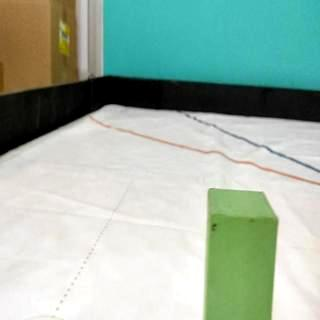greenbox: (203, 185, 279, 320)
